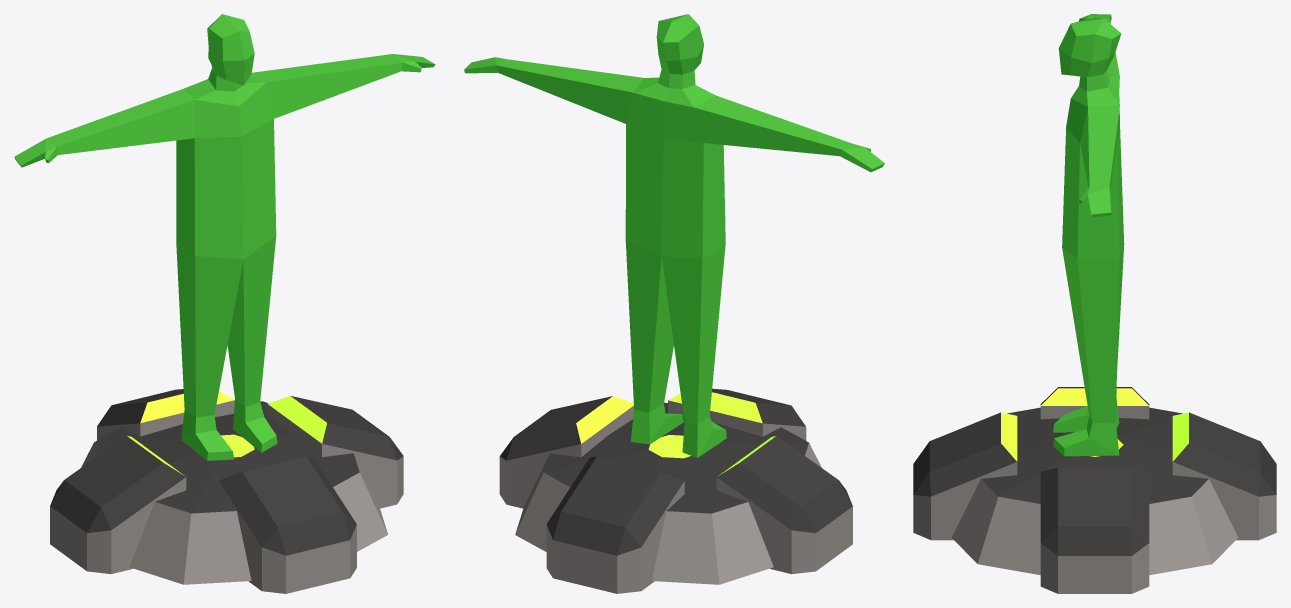
The model's file is scifi_scifi-hologram-man.fbx.
The picture shows the model from 3 angles, left to right: view 1: azimuth 30°, elevation 25°; view 2: azimuth 150°, elevation 25°; view 3: azimuth 270°, elevation 25°; orthographic projection.
Visible parts, largest first — view 1: scifi_scifi_hologram_man; view 2: scifi_scifi_hologram_man; view 3: scifi_scifi_hologram_man.
Part boxes in pixels (x1,y1,x2,y2): scifi_scifi_hologram_man: (14, 14, 435, 593); scifi_scifi_hologram_man: (464, 14, 884, 593); scifi_scifi_hologram_man: (913, 14, 1276, 593).
Bounding box in the file's own units: 173 × 200 × 132.
